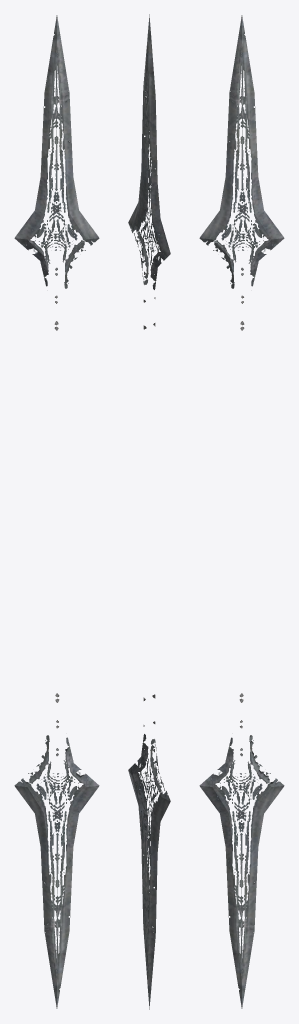
The model's file is wp_mle_lance_kashyyk_bladestick_l1.fbx.
3 views of the same model, side by side, from view 1: azimuth 90°, elevation 25°; view 2: azimuth 210°, elevation 25°; view 3: azimuth 270°, elevation 25° (orthographic).
Visible parts, largest first — view 1: mesh_node; view 2: mesh_node; view 3: mesh_node.
Boxes of the visible parts, x1=… form: mesh_node: x1=14, y1=15, x2=99, y2=1008; mesh_node: x1=128, y1=14, x2=170, y2=1009; mesh_node: x1=199, y1=15, x2=284, y2=1008.
Bounding box in the file's own units: 0.0496 × 2.59 × 0.2008.
1 material, 1 textured.
